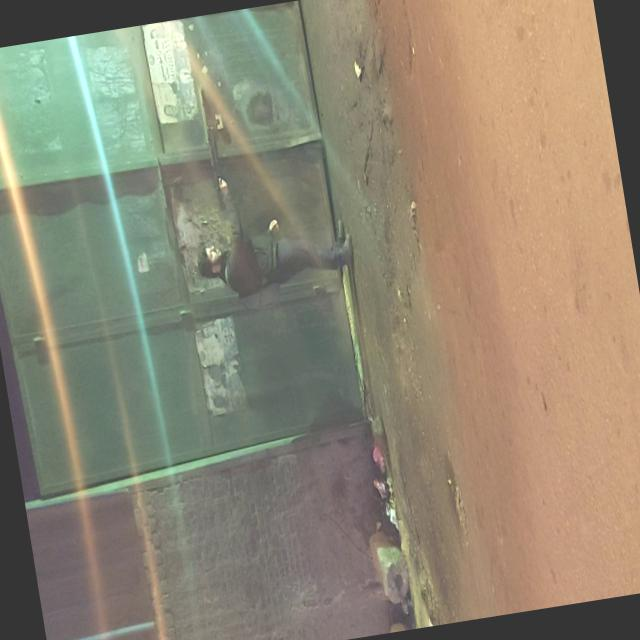long weapon: (195, 112, 242, 225)
